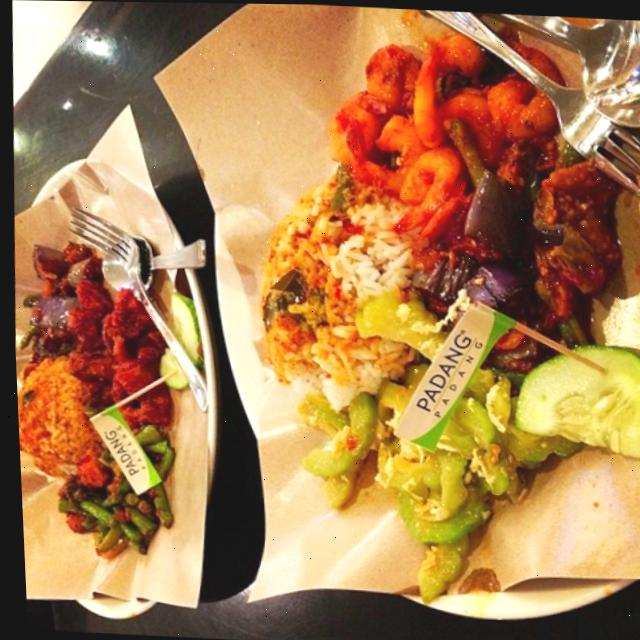米饭主食: (0, 0, 640, 635)
